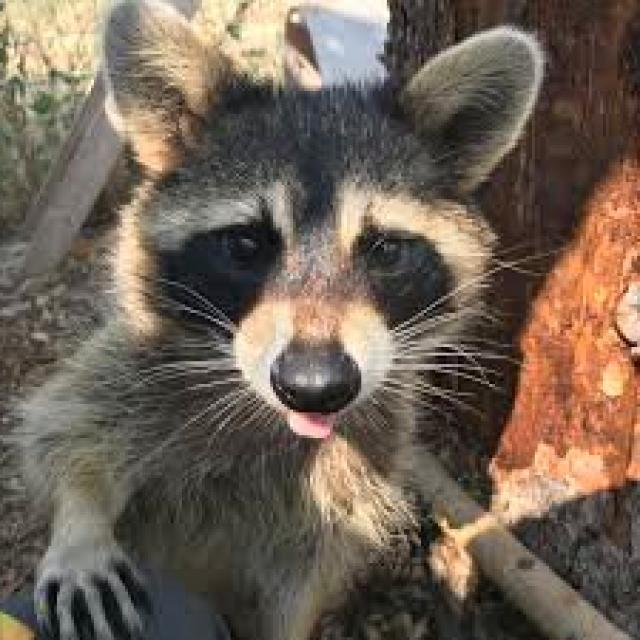raccoon: (14, 0, 543, 637)
